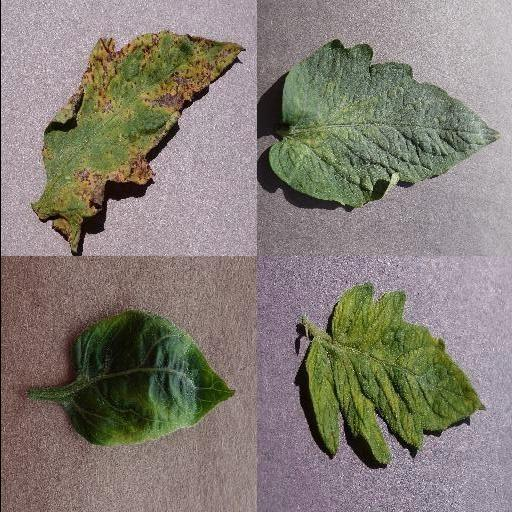Mosaic Virus: (300, 284, 484, 464)
Septoria: (31, 30, 245, 252)
Spider Mites: (268, 40, 502, 208)
Yellow Leaf Curl Virus: (59, 310, 235, 446)
